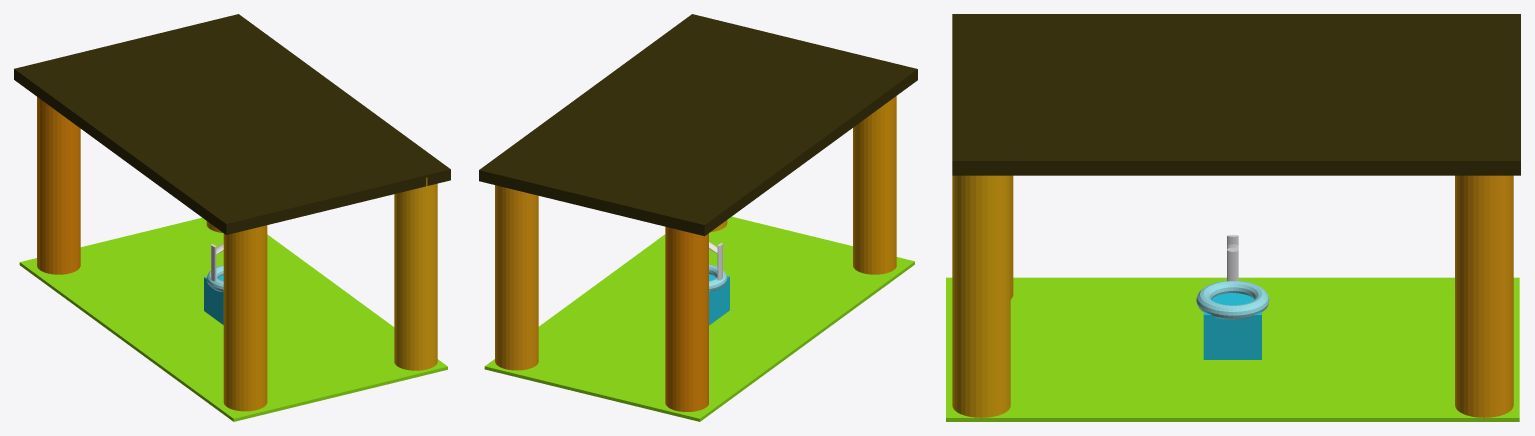
The model's file is publicznyKibel.fbx.
The picture shows the model from 3 angles, left to right: view 1: azimuth 30°, elevation 25°; view 2: azimuth 150°, elevation 25°; view 3: azimuth 270°, elevation 25°; orthographic projection. The views are drawn at different scales.
Parts seen in each view (by area): view 1: Kostka, Cube, Walec.003, Walec, Walec.002, Kostka.001; view 2: Kostka, Cube, Walec.002, Walec.001, Walec.003, Kostka.001; view 3: Kostka, Cube, Walec, Walec.001, Kostka.001, Torus.
Boxes of the visible parts, x1,y1,x2,y2 form: Kostka: (14, 14, 450, 234); Cube: (19, 217, 447, 421); Walec.003: (223, 225, 267, 411); Walec: (394, 177, 437, 370); Walec.002: (37, 97, 80, 274); Kostka.001: (204, 275, 223, 324); Kostka: (479, 14, 917, 236); Cube: (484, 216, 914, 421); Walec.002: (665, 226, 708, 411); Walec.001: (495, 185, 538, 370); Walec.003: (853, 96, 896, 274); Kostka.001: (709, 274, 729, 325); Kostka: (952, 14, 1520, 175); Cube: (946, 277, 1519, 421); Walec: (952, 175, 1010, 420); Walec.001: (1455, 175, 1513, 420); Kostka.001: (1203, 293, 1261, 359); Torus: (1196, 281, 1269, 319).
Size of the model in its own units: 1189 by 1013 by 1968.
